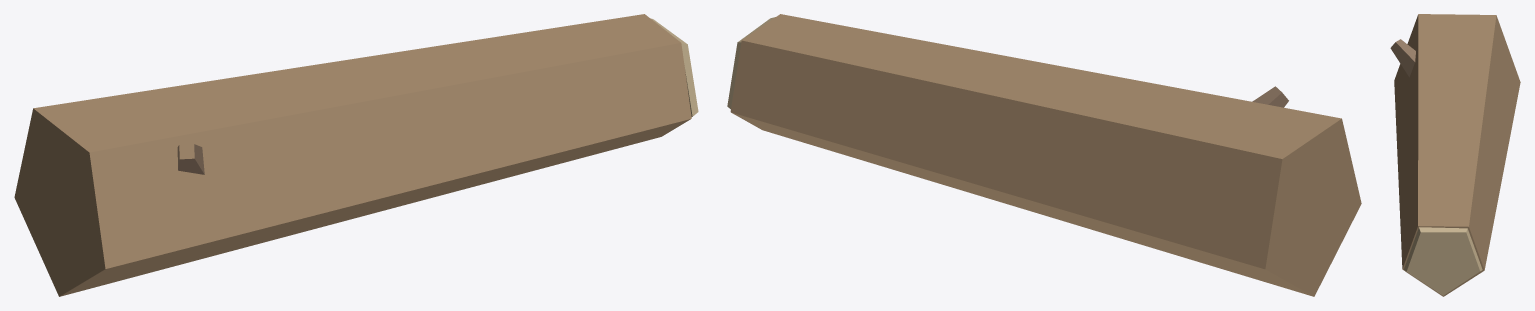
The picture shows the model from 3 angles, left to right: view 1: azimuth 30°, elevation 25°; view 2: azimuth 150°, elevation 25°; view 3: azimuth 270°, elevation 25°; orthographic projection. The views are drawn at different scales.
Visible parts, largest first — view 1: Body; view 2: Body; view 3: Body.
Boxes of the visible parts, bbox=[...] form: Body: bbox=[14, 14, 698, 296]; Body: bbox=[727, 14, 1361, 296]; Body: bbox=[1390, 14, 1520, 296].
Bounding box in the file's own units: 2.95 × 0.7779 × 0.8424.
